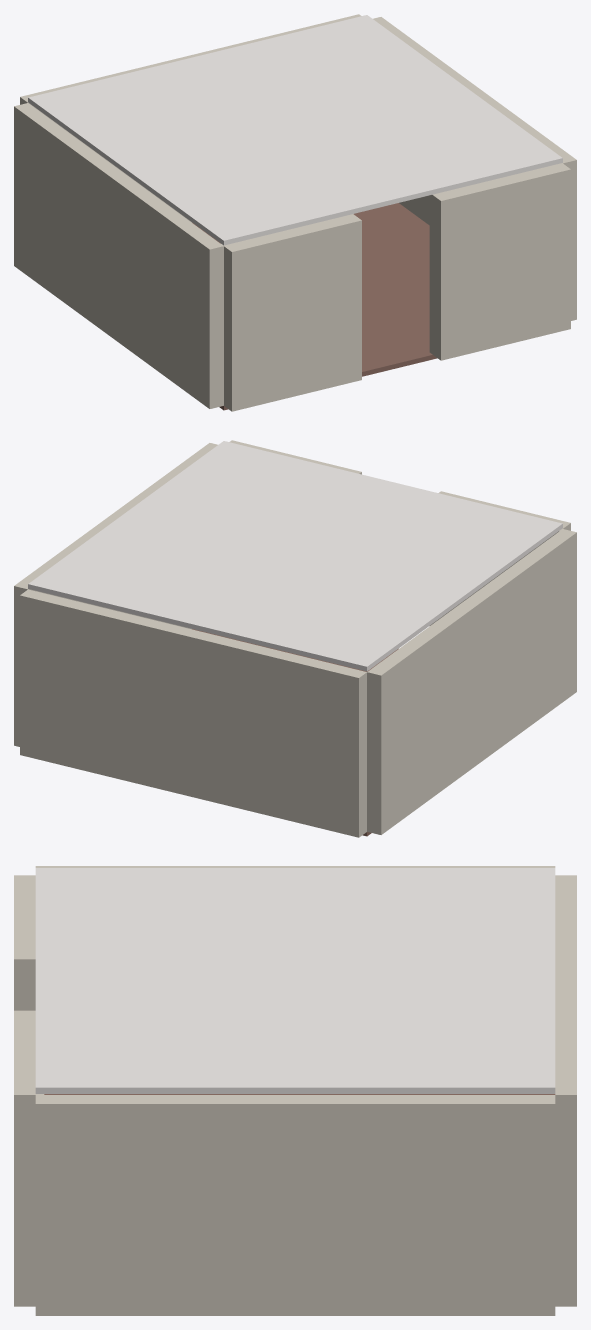
File: room_shell.glb
3 renders of one model, top to bottom at view 1: azimuth 30°, elevation 25°; view 2: azimuth 150°, elevation 25°; view 3: azimuth 270°, elevation 25°, orthographic. The views are drawn at different scales.
Visible parts, largest first — view 1: room_shell; view 2: room_shell; view 3: room_shell.
Part boxes in pixels (x1,y1,x2,y2): room_shell: (14,14,576,411); room_shell: (14,440,576,837); room_shell: (14,866,576,1315).
Bounding box in the file's own units: 6.5 × 2.87 × 6.5.
Materials: 1 (1 with a texture image).
